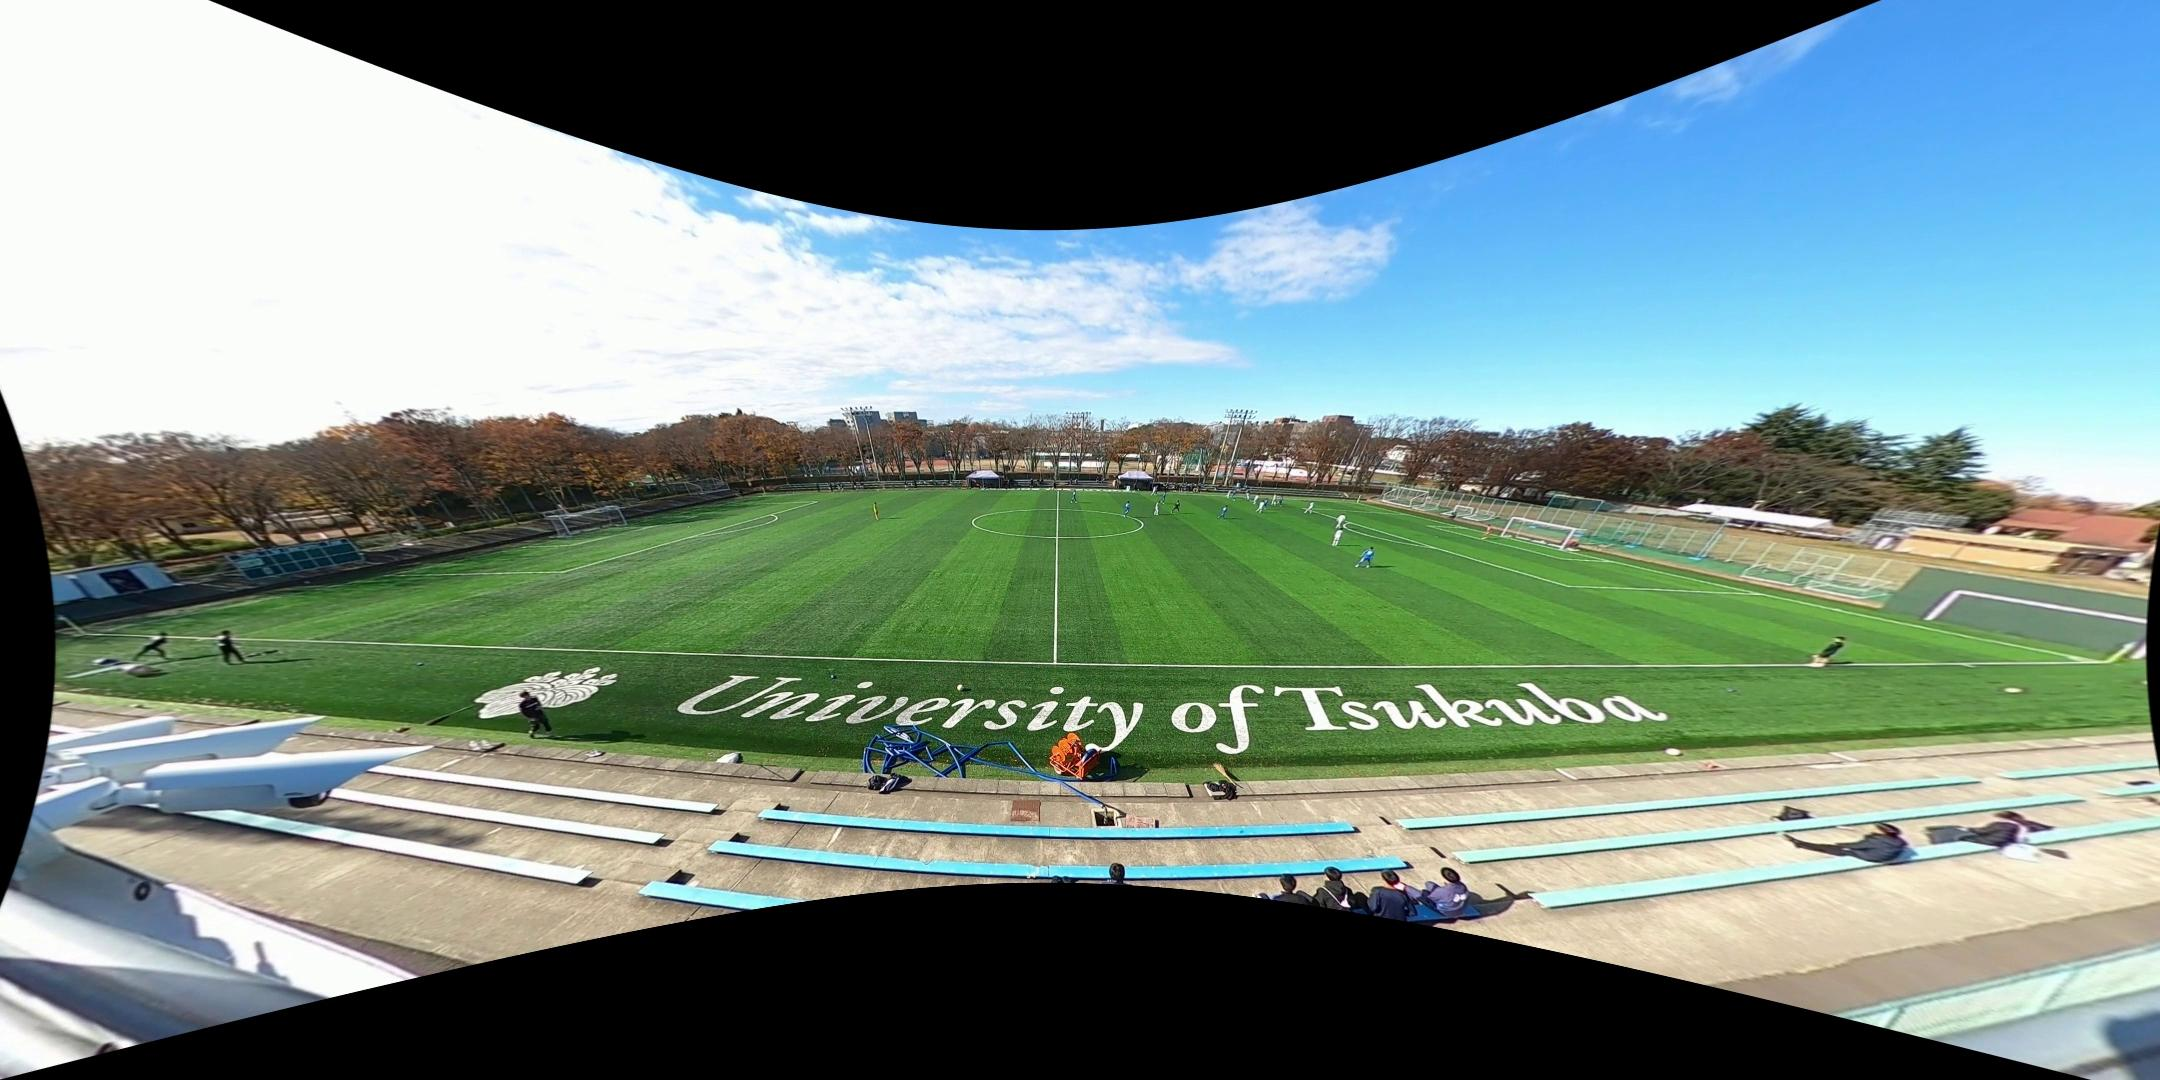person: (1812, 635, 1846, 668), (1355, 546, 1375, 568), (1335, 512, 1347, 530), (1481, 523, 1493, 541), (1332, 528, 1343, 546), (1217, 504, 1228, 519), (872, 501, 880, 521), (1123, 500, 1132, 517), (1159, 489, 1168, 505), (1304, 501, 1314, 514), (1255, 500, 1265, 513), (1170, 500, 1180, 513), (1153, 501, 1161, 516), (1070, 490, 1078, 504), (1271, 494, 1279, 507), (1251, 495, 1261, 505), (1260, 498, 1269, 509), (1276, 496, 1284, 507), (1230, 489, 1238, 500), (1151, 485, 1159, 496), (1244, 489, 1251, 501), (1225, 490, 1232, 500)
sports ball: (2002, 682, 2026, 700), (1663, 741, 1685, 758), (1417, 704, 1427, 714), (956, 683, 966, 692)
